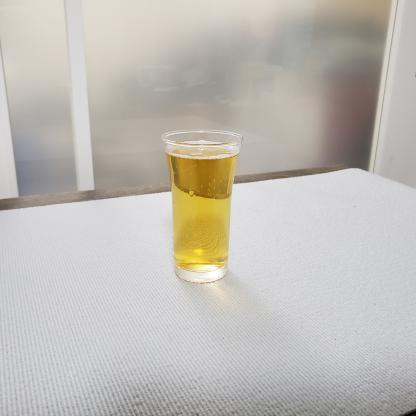glass: (157, 121, 253, 291)
